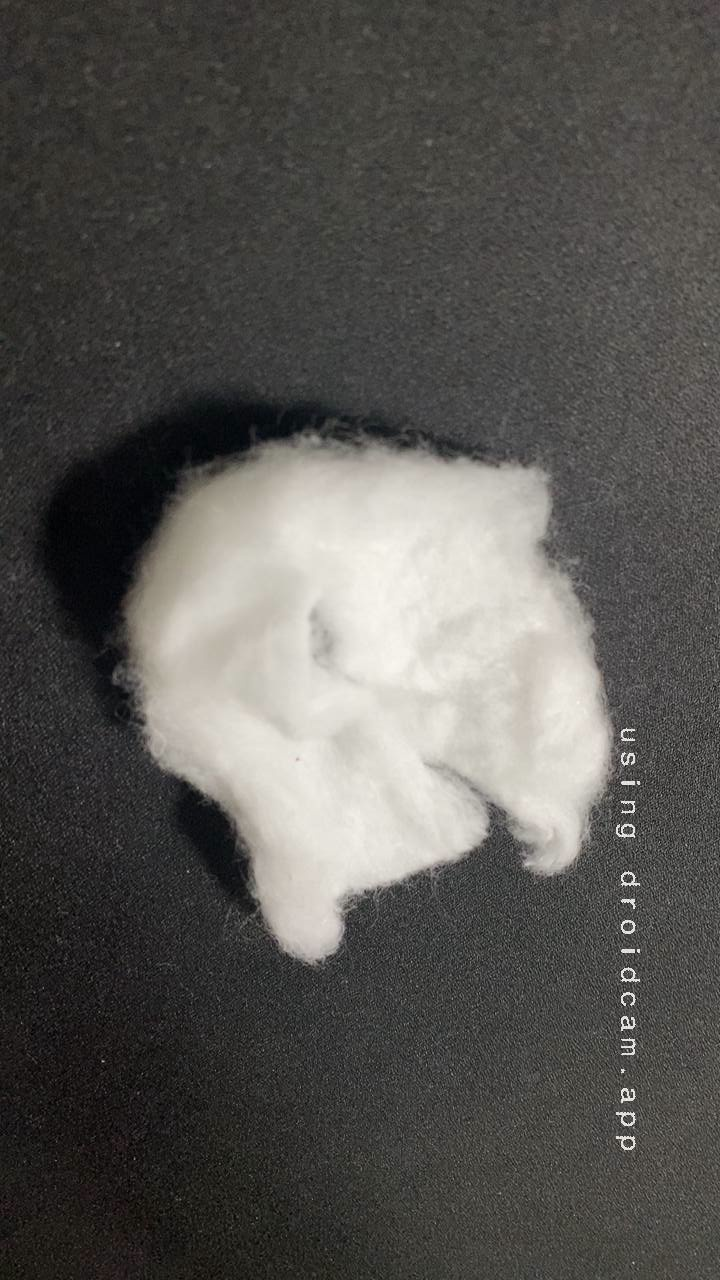cotton: (73, 423, 678, 961)
